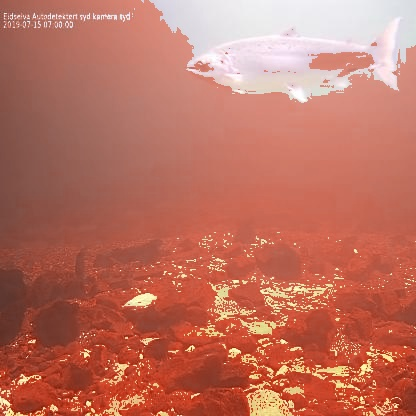salmon: (185, 13, 403, 105)
